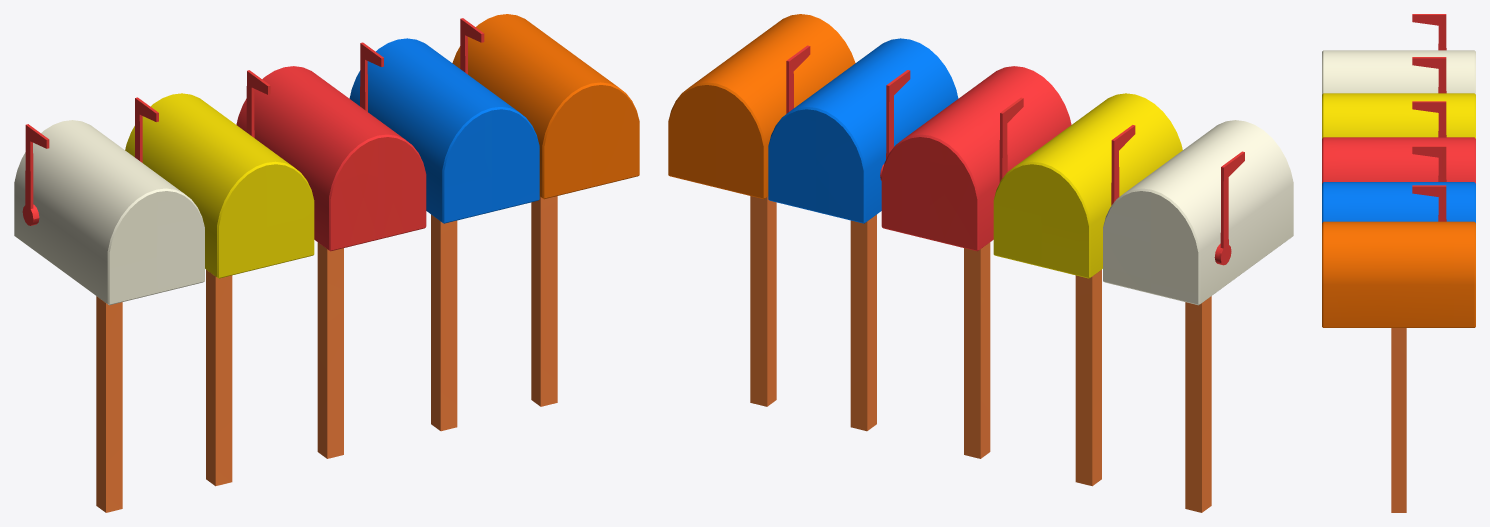
File: 5_FARKLI_POSTA_KUTUSU.fbx
3 renders of one model, left to right at view 1: azimuth 30°, elevation 25°; view 2: azimuth 150°, elevation 25°; view 3: azimuth 270°, elevation 25°, orthographic. The views are drawn at different scales.
Visible parts, largest first — view 1: POSTA_KUTUSU_2.001, POSTA_KUTUSU_4, POSTA_KUTUSU_1, POSTA_KUTUSU_2, POSTA_KUTUSU_3; view 2: POSTA_KUTUSU_2.001, POSTA_KUTUSU_4, POSTA_KUTUSU_1, POSTA_KUTUSU_2, POSTA_KUTUSU_3; view 3: POSTA_KUTUSU_3, POSTA_KUTUSU_2, POSTA_KUTUSU_1, POSTA_KUTUSU_2.001, POSTA_KUTUSU_4.
Boxes of the visible parts, x1=… form: POSTA_KUTUSU_2.001: x1=14, y1=120, x2=204, y2=512; POSTA_KUTUSU_4: x1=349, y1=38, x2=539, y2=431; POSTA_KUTUSU_1: x1=236, y1=66, x2=426, y2=458; POSTA_KUTUSU_2: x1=125, y1=93, x2=314, y2=486; POSTA_KUTUSU_3: x1=452, y1=14, x2=639, y2=406; POSTA_KUTUSU_2.001: x1=1103, y1=120, x2=1293, y2=512; POSTA_KUTUSU_4: x1=768, y1=38, x2=958, y2=431; POSTA_KUTUSU_1: x1=881, y1=66, x2=1071, y2=458; POSTA_KUTUSU_2: x1=993, y1=93, x2=1182, y2=486; POSTA_KUTUSU_3: x1=668, y1=14, x2=855, y2=406; POSTA_KUTUSU_3: x1=1322, y1=185, x2=1475, y2=512; POSTA_KUTUSU_2: x1=1322, y1=57, x2=1475, y2=138; POSTA_KUTUSU_1: x1=1322, y1=101, x2=1475, y2=183; POSTA_KUTUSU_2.001: x1=1322, y1=14, x2=1475, y2=94; POSTA_KUTUSU_4: x1=1322, y1=146, x2=1475, y2=222.
Size of the model in its own units: 213 by 142 by 65.26.
